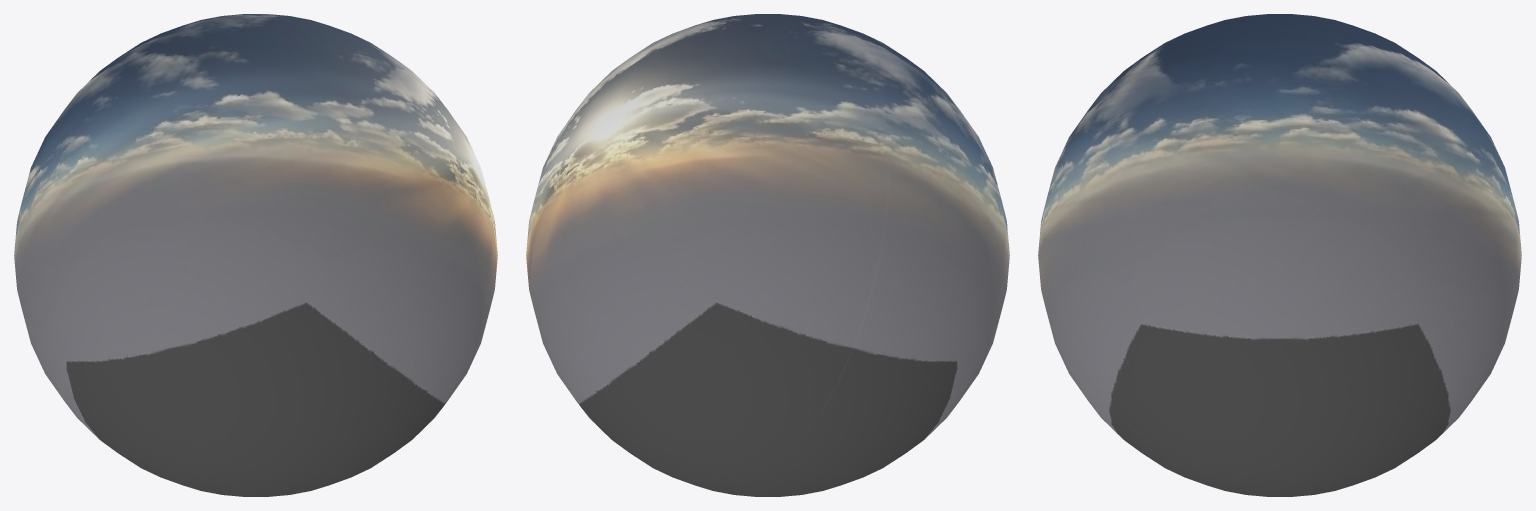
File: skybox_1km.glb
3 views of the same model, side by side, from view 1: azimuth 30°, elevation 25°; view 2: azimuth 150°, elevation 25°; view 3: azimuth 270°, elevation 25° (orthographic).
Visible parts, largest first — view 1: obj1; view 2: obj1; view 3: obj1.
Boxes of the visible parts, x1=… form: obj1: x1=14, y1=14, x2=497, y2=496; obj1: x1=526, y1=14, x2=1009, y2=496; obj1: x1=1038, y1=14, x2=1521, y2=496.
Bounding box in the file's own units: 1989 × 2000 × 2000.
Materials: 1 (1 with a texture image).
